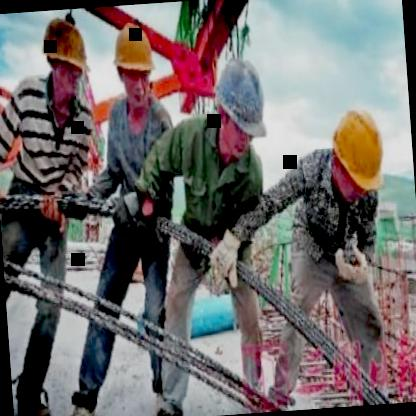helmet: (325, 96, 394, 212), (207, 48, 269, 158), (35, 10, 98, 118), (110, 15, 161, 112)
